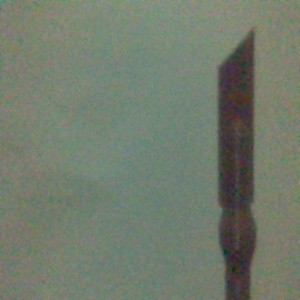cutter: (217, 26, 257, 300)
